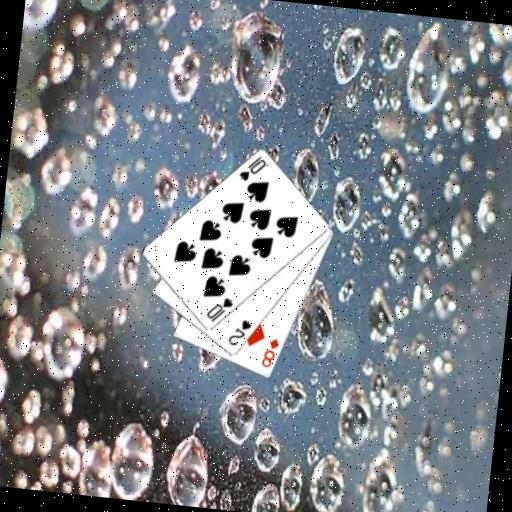10S: (235, 151, 269, 185), (203, 293, 236, 326)
2S: (224, 315, 254, 349)
8D: (258, 334, 282, 371)
